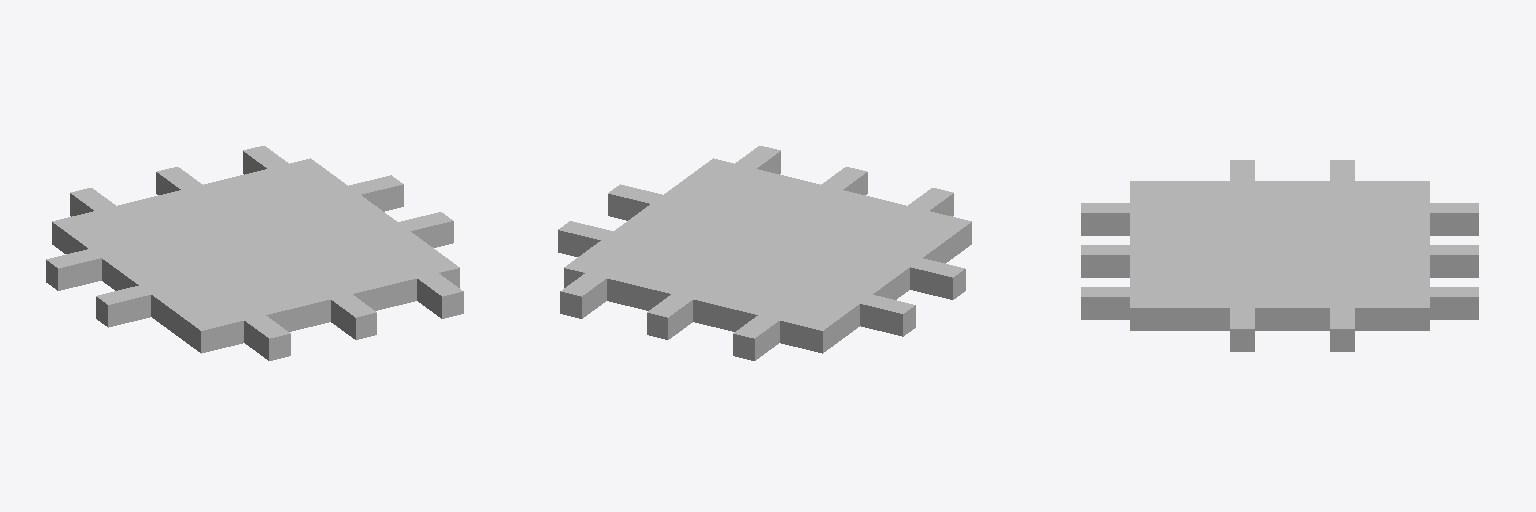
Rendered from diamond_circitm.obj.
3 views of the same model, side by side, from view 1: azimuth 30°, elevation 25°; view 2: azimuth 150°, elevation 25°; view 3: azimuth 270°, elevation 25° (orthographic).
Visible parts, largest first — view 1: cube; view 2: cube; view 3: cube.
Boxes of the visible parts, x1,y1,x2,y2 form: cube: [46, 146, 463, 360]; cube: [558, 146, 971, 360]; cube: [1081, 160, 1478, 351].
Bounding box in the file's own units: 1 × 0.0625 × 1.